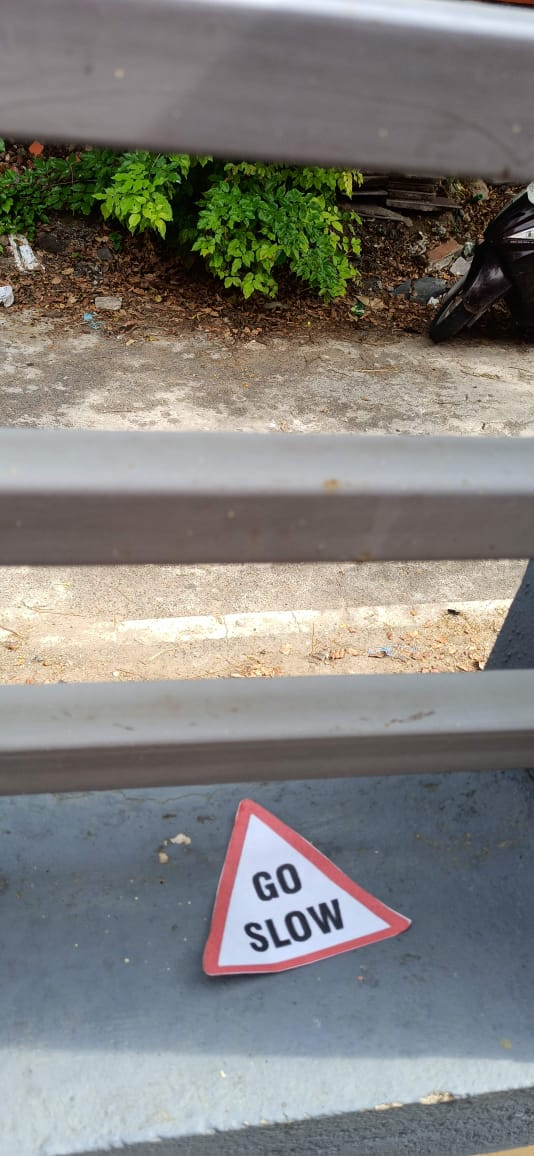GO SLOW: (182, 773, 419, 995)
